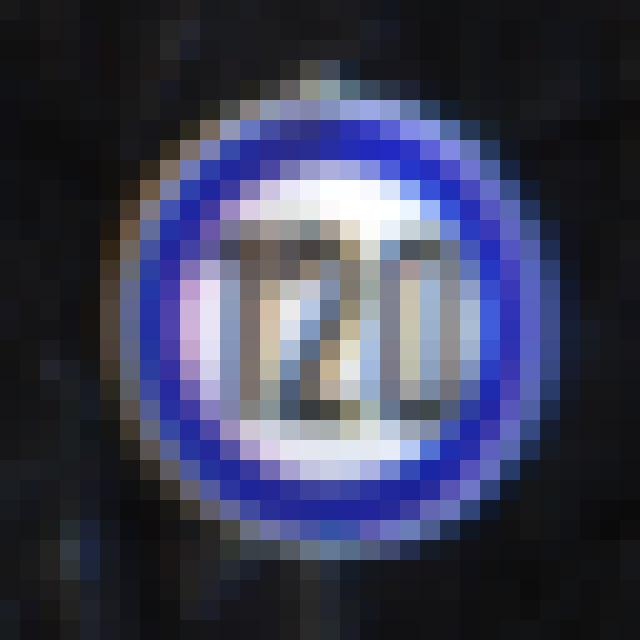SPEED LIMIT 120: (108, 89, 560, 563)
